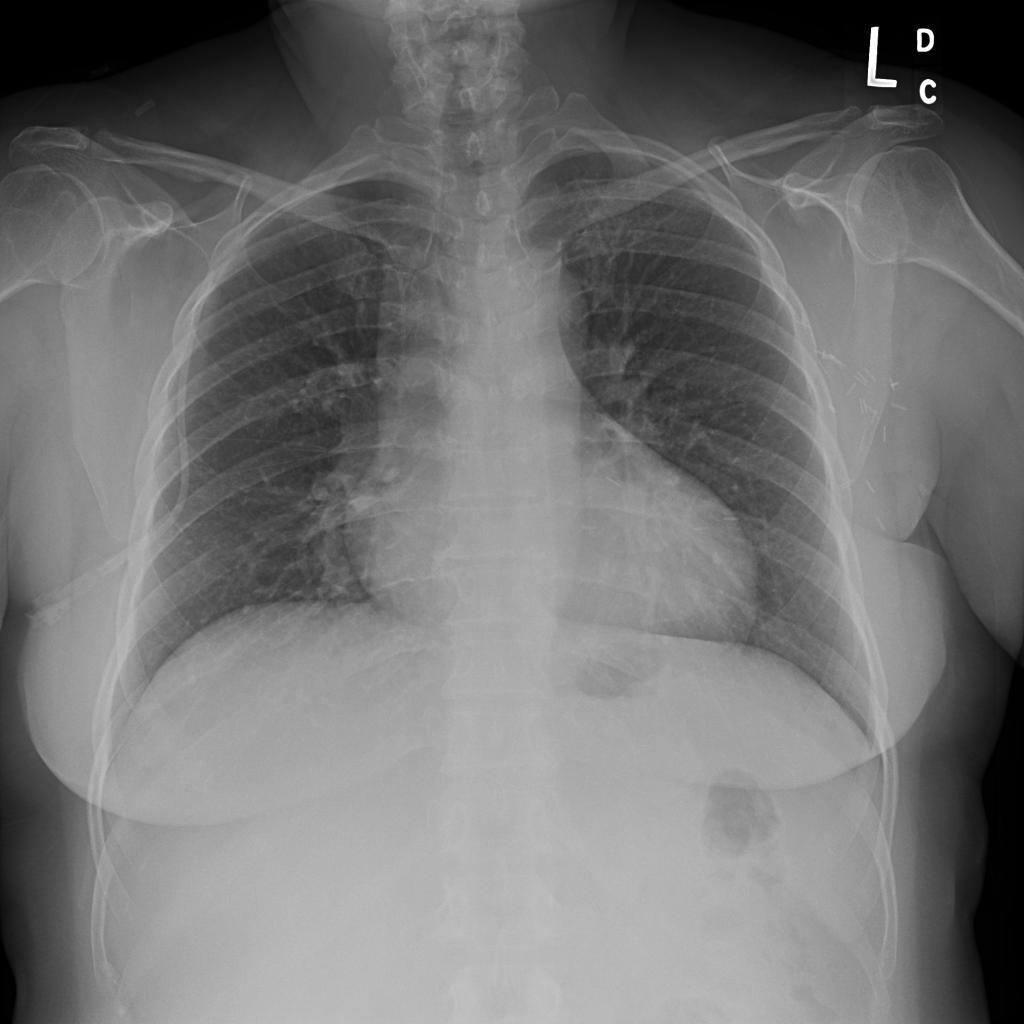Nodule: (171, 246, 202, 266), (117, 302, 141, 320)
